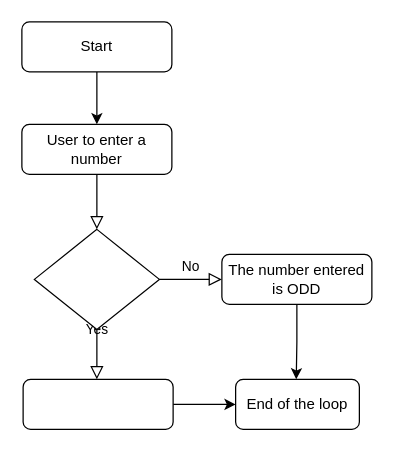
The diagram is 394 pixels wide and 451 high, and some of its shapes have lost their labels. Here are the shapes that lost their labels. From the top down, the centre of each, then its label:
At pixel 96 278: "Is number even".
At pixel 97 403: "The number entered is Even".
